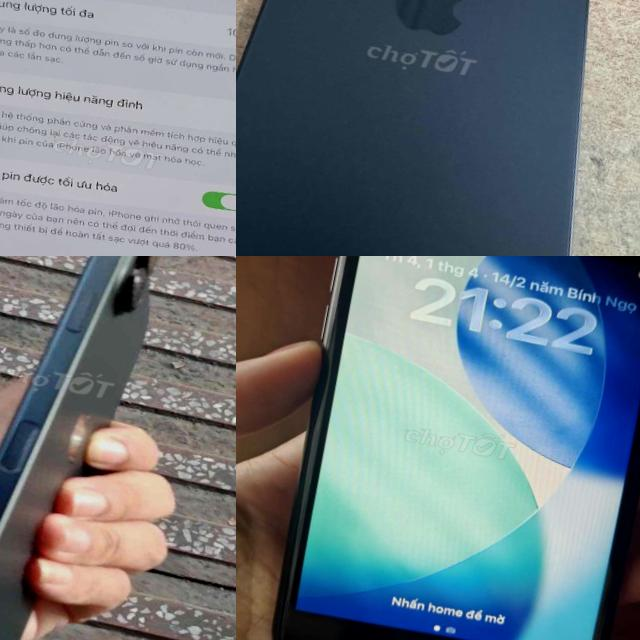gen_12_13: (0, 0, 236, 256)
gen_15: (236, 0, 640, 256)
gen_16: (0, 256, 194, 640)
scratch: (244, 256, 640, 640)
